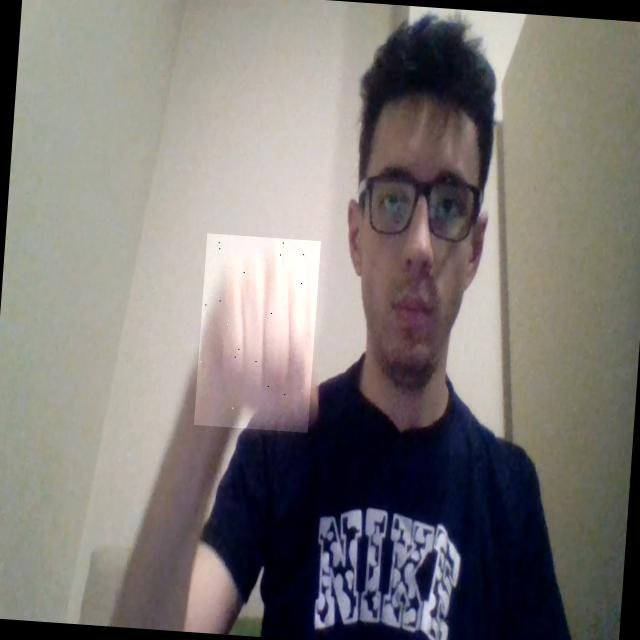yes: (194, 233, 320, 432)
